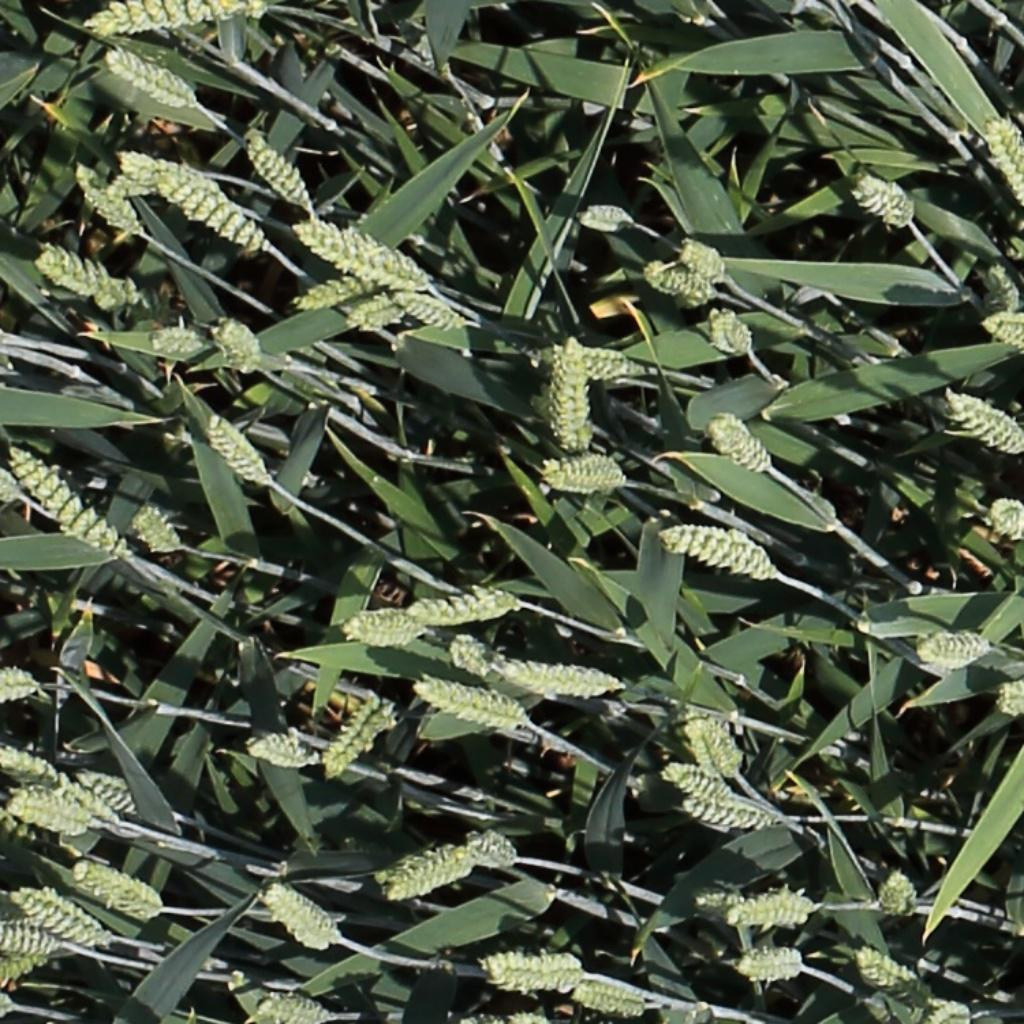0-0: (9, 440, 132, 556), (151, 167, 275, 256), (299, 215, 428, 283), (264, 873, 349, 967), (443, 627, 542, 703), (12, 875, 112, 949), (663, 517, 781, 577), (389, 830, 517, 882), (243, 122, 318, 210), (322, 681, 394, 770), (548, 333, 600, 456), (495, 656, 622, 706), (87, 0, 266, 32), (70, 155, 143, 233), (415, 670, 531, 719), (203, 402, 273, 480), (73, 853, 172, 907), (479, 943, 578, 997), (38, 251, 134, 305), (677, 785, 785, 832), (106, 47, 196, 103), (383, 849, 471, 906), (6, 787, 98, 841), (402, 588, 516, 631), (946, 383, 1021, 446), (544, 446, 638, 495), (128, 504, 198, 569), (286, 267, 386, 312), (334, 603, 433, 647), (856, 169, 920, 236), (116, 146, 215, 188), (856, 931, 931, 985), (985, 109, 1024, 207), (729, 892, 825, 931), (664, 753, 744, 798), (76, 759, 139, 816), (709, 410, 774, 465), (688, 700, 737, 772), (565, 341, 638, 385), (256, 981, 338, 1020), (741, 942, 812, 985), (247, 729, 322, 769), (0, 735, 68, 778), (210, 311, 263, 364), (921, 632, 991, 671), (394, 285, 465, 323), (644, 256, 716, 293), (983, 249, 1022, 314), (578, 978, 649, 1013), (711, 297, 756, 352), (0, 771, 32, 832), (349, 295, 399, 334), (681, 234, 729, 274), (0, 935, 54, 968), (882, 854, 921, 899), (577, 204, 633, 234), (151, 325, 203, 356), (989, 675, 1024, 721), (0, 669, 44, 704), (981, 307, 1024, 342), (0, 912, 57, 936), (988, 494, 1024, 531), (928, 998, 972, 1022), (0, 981, 20, 1018)
